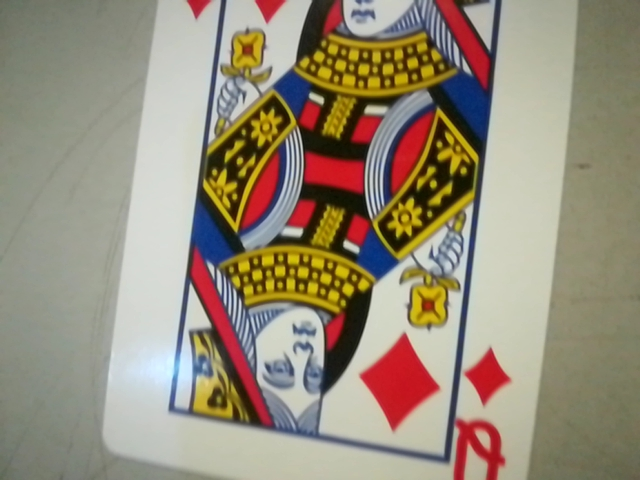fk q: (444, 342, 520, 480)
